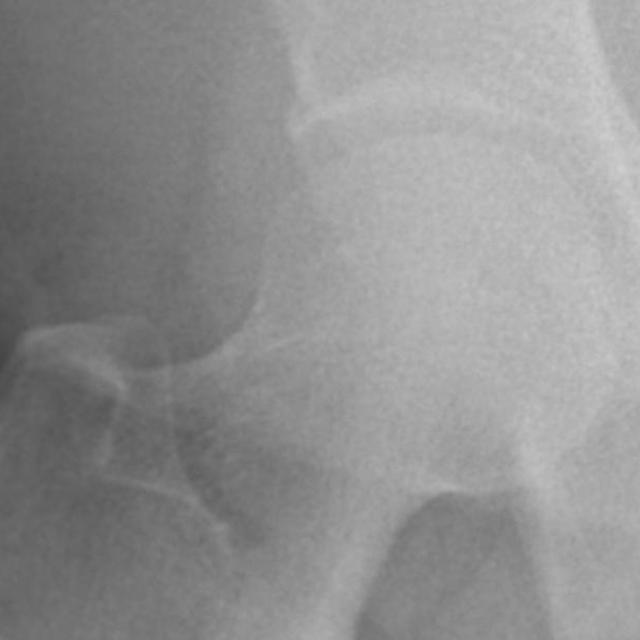Fitted_femural_head: (382, 130, 432, 382)
